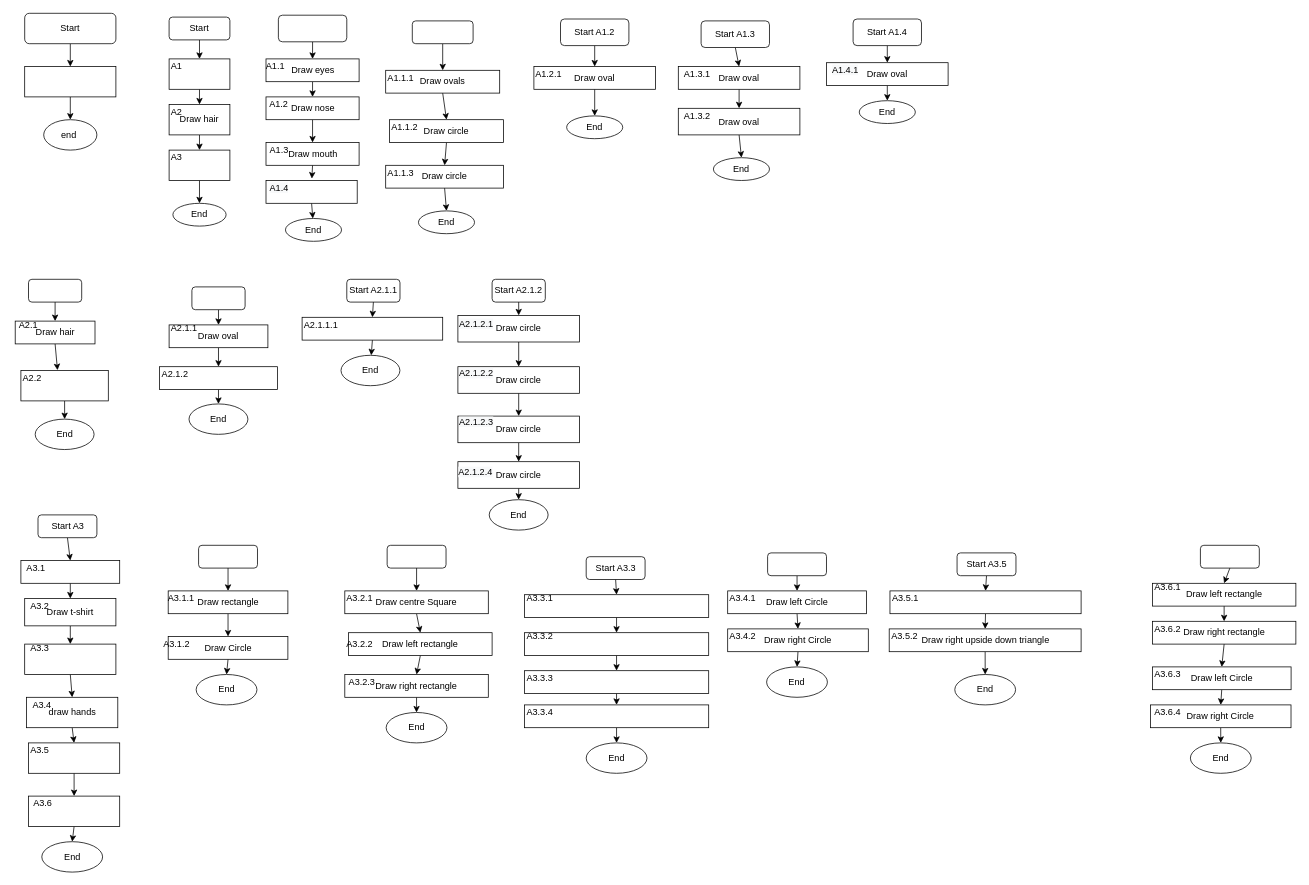
Some shapes in this 1309 by 885 pixel diagram are drawn without their labels. Here are the shapes that lost their labels. From the top down, the box of each, then its label:
(278, 14, 347, 42): Start A1
(412, 20, 473, 44): StartA1.1
(24, 66, 116, 97): Draw Self portrait
(168, 58, 230, 89): Draw face
(168, 149, 230, 180): Draw body
(265, 180, 357, 203): Draw ear
(28, 279, 82, 302): Start A2
(191, 286, 245, 310): Start A2.1
(301, 317, 443, 340): Draw centre oval
(20, 370, 108, 401): Draw pigtails
(159, 366, 277, 390): Draw circles
(20, 560, 120, 583): Draw neck
(198, 545, 257, 568): Start A3.1
(386, 545, 446, 568): Start A3.2
(767, 552, 826, 576): Start A3.4
(1200, 545, 1259, 568): Start A3.6
(524, 594, 709, 618): Draw bottom left rectangle
(889, 590, 1081, 614): Draw left upside down triangle
(24, 643, 116, 674): Draw arms
(524, 632, 709, 656): Draw top left rectangle
(524, 670, 709, 694): Draw bottom right rectangle
(524, 704, 709, 728): Draw top right rectangle
(28, 742, 120, 773): Draw Legs
(28, 795, 120, 826): Draw shoes
